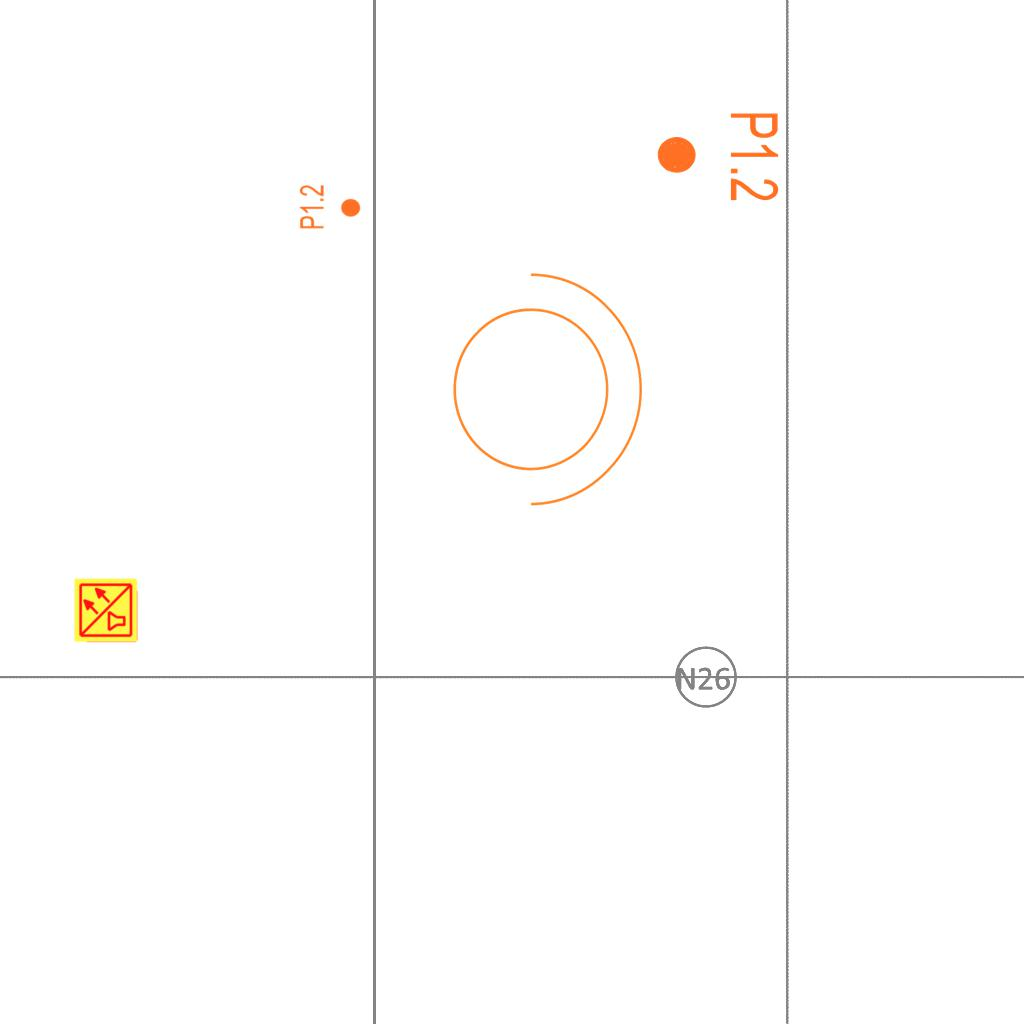Downlight_LED_Einbauleuchten_Flur: (654, 110, 782, 203), (298, 184, 362, 230)
OKW_Multisensormelder_(Kombination_optischer_Rauch-Kahlenmonoxid_Waerme-Melder): (73, 577, 139, 643)
Scheinwerfer_fuer_Alarmbeleuchtung: (428, 251, 653, 515)
